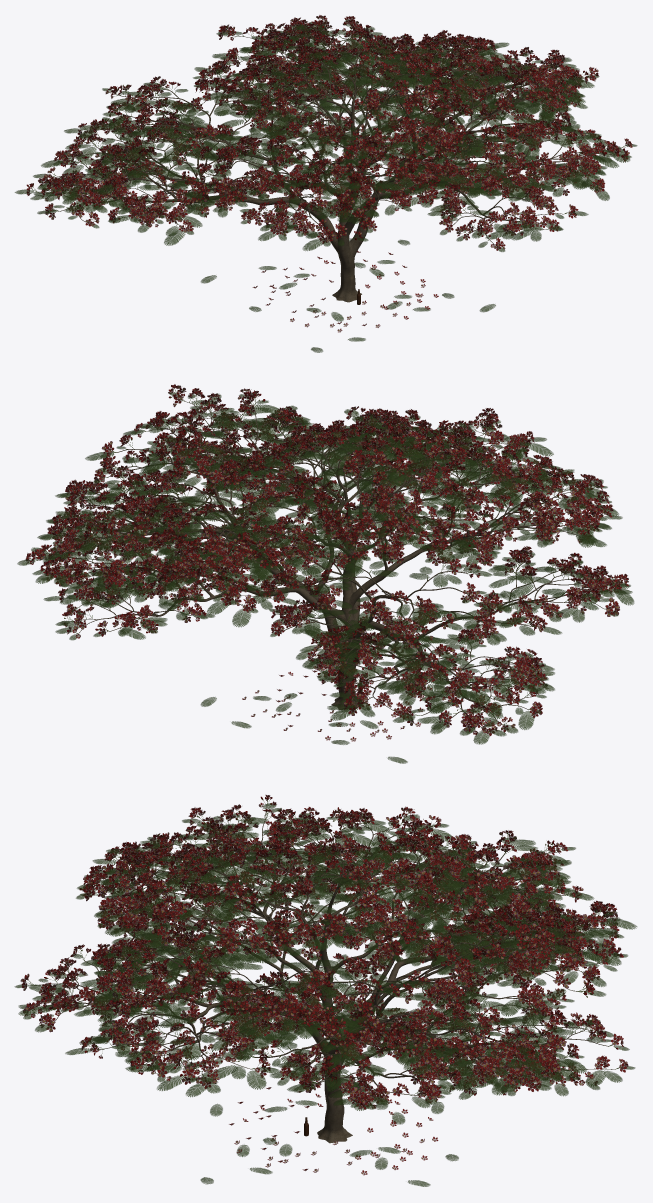
The picture shows the model from 3 angles, top to bottom: view 1: azimuth 30°, elevation 25°; view 2: azimuth 150°, elevation 25°; view 3: azimuth 270°, elevation 25°; orthographic projection. The views are drawn at different scales.
Parts seen in each view (by area): view 1: Delonix_regia_HD, Delonix_regia_HD_Delonix flower 01_0.005, Delonix_regia_HD_Delonix stalk_0.001; view 2: Delonix_regia_HD, Delonix_regia_HD_Delonix flower 01_0.005, Delonix_regia_HD_Delonix stalk_0.001, Delonix_regia_HD_Delonix stalk_0.002; view 3: Delonix_regia_HD, Delonix_regia_HD_Delonix flower 01_0.005, Delonix_regia_HD_Delonix stalk_0.001, Delonix_regia_HD_Delonix stalk_0.002.
Boxes of the visible parts, x1=… form: Delonix_regia_HD: x1=15, y1=15, x2=637, y2=302; Delonix_regia_HD_Delonix flower 01_0.005: x1=42, y1=18, x2=628, y2=247; Delonix_regia_HD_Delonix stalk_0.001: x1=32, y1=20, x2=627, y2=235; Delonix_regia_HD: x1=17, y1=384, x2=634, y2=744; Delonix_regia_HD_Delonix flower 01_0.005: x1=28, y1=390, x2=627, y2=730; Delonix_regia_HD_Delonix stalk_0.001: x1=44, y1=404, x2=623, y2=729; Delonix_regia_HD_Delonix stalk_0.002: x1=70, y1=410, x2=612, y2=691; Delonix_regia_HD: x1=14, y1=795, x2=636, y2=1143; Delonix_regia_HD_Delonix flower 01_0.005: x1=24, y1=808, x2=623, y2=1105; Delonix_regia_HD_Delonix stalk_0.001: x1=26, y1=800, x2=609, y2=1102; Delonix_regia_HD_Delonix stalk_0.002: x1=90, y1=818, x2=612, y2=1098.
Size of the model in its own units: 83.66 by 39.42 by 75.09.
94 materials, 94 textured.
